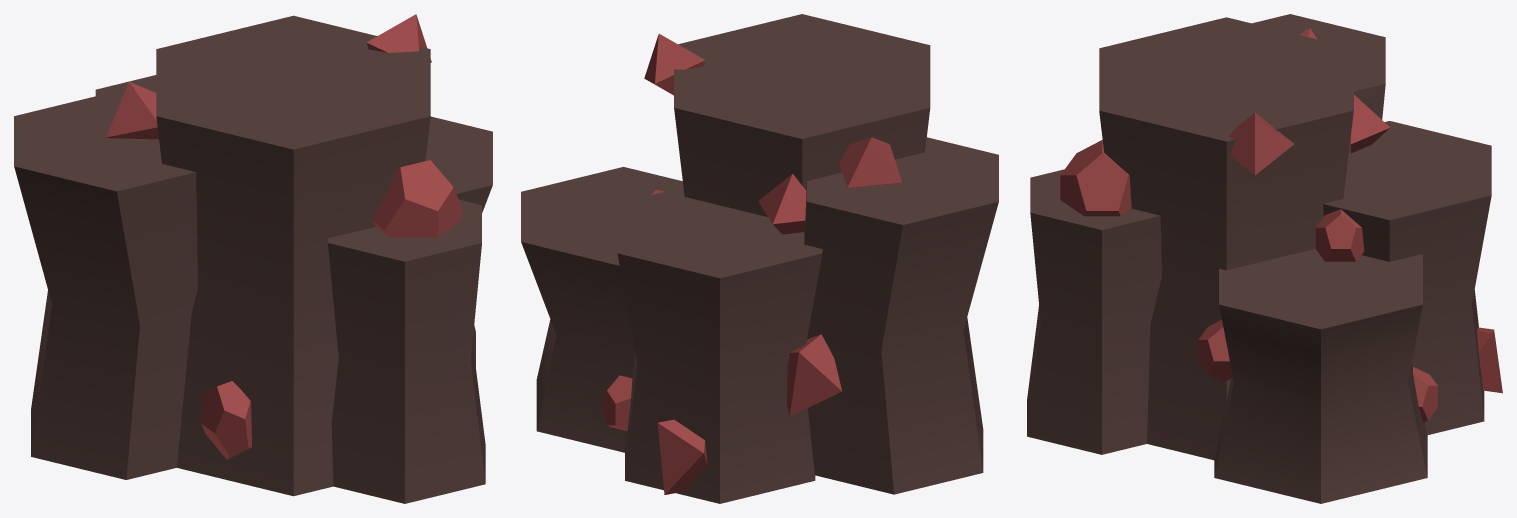
Rendered from Ore05.fbx.
3 renders of one model, left to right at view 1: azimuth 30°, elevation 25°; view 2: azimuth 150°, elevation 25°; view 3: azimuth 270°, elevation 25°, orthographic. The views are drawn at different scales.
Visible parts, largest first — view 1: pPlatonic3; view 2: pPlatonic3; view 3: pPlatonic3.
Part boxes in pixels (x1=…): pPlatonic3: x1=14, y1=14, x2=492, y2=503; pPlatonic3: x1=521, y1=14, x2=998, y2=503; pPlatonic3: x1=1027, y1=14, x2=1502, y2=503.
Bounding box in the file's own units: 2.11 × 1.5 × 1.89.
